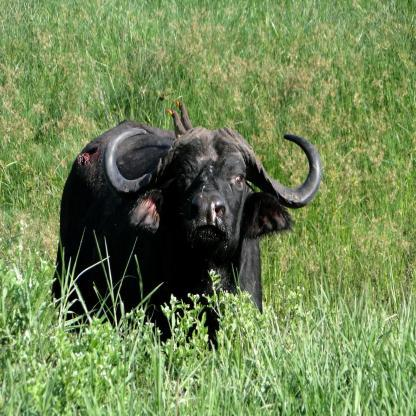buffalo: (59, 122, 317, 352)
injured: (66, 136, 120, 193)
